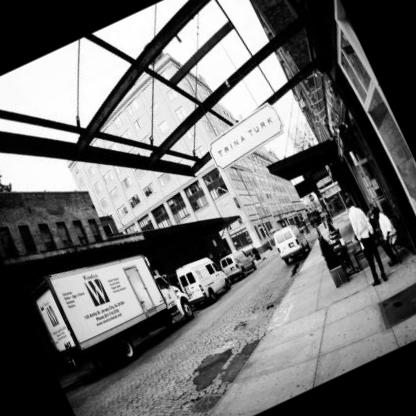car: (261, 212, 317, 268), (222, 242, 262, 285)
truck: (14, 217, 208, 394), (171, 248, 236, 314)
